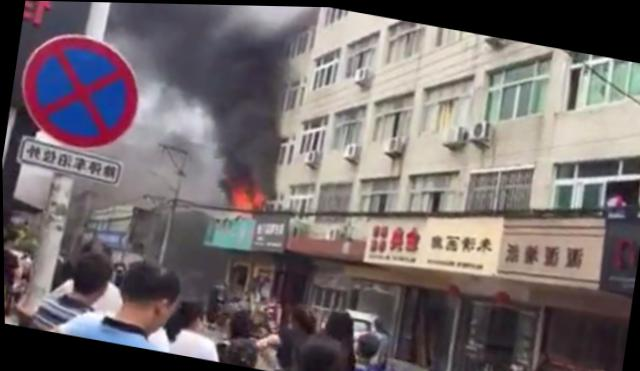fire: (229, 180, 264, 211)
